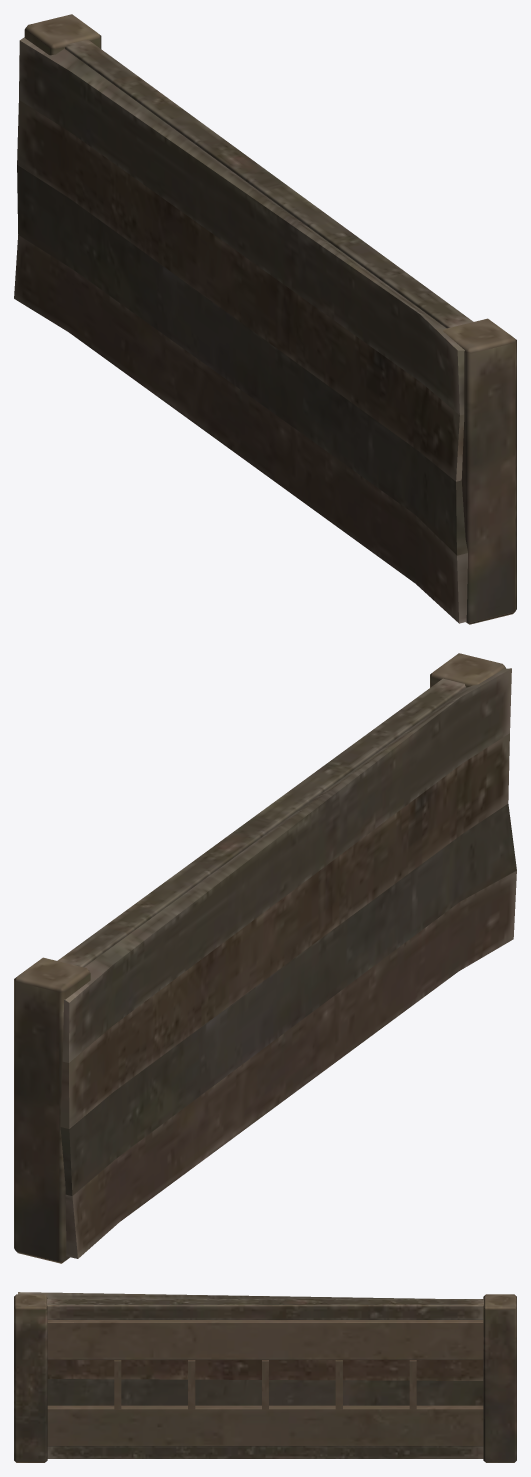
The model's file is wall.low.frontier_variant_a.glb.
3 renders of one model, top to bottom at view 1: azimuth 30°, elevation 25°; view 2: azimuth 150°, elevation 25°; view 3: azimuth 270°, elevation 25°, orthographic. The views are drawn at different scales.
Visible parts, largest first — view 1: wall.third_a_LOD0; view 2: wall.third_a_LOD0; view 3: wall.third_a_LOD0.
Part boxes in pixels (x1,y1,x2,y2): wall.third_a_LOD0: (14, 14, 516, 624); wall.third_a_LOD0: (14, 653, 516, 1263); wall.third_a_LOD0: (14, 1292, 516, 1462).
Bounding box in the file's own units: 0.2449 × 1.03 × 3.
1 material, 1 textured.
